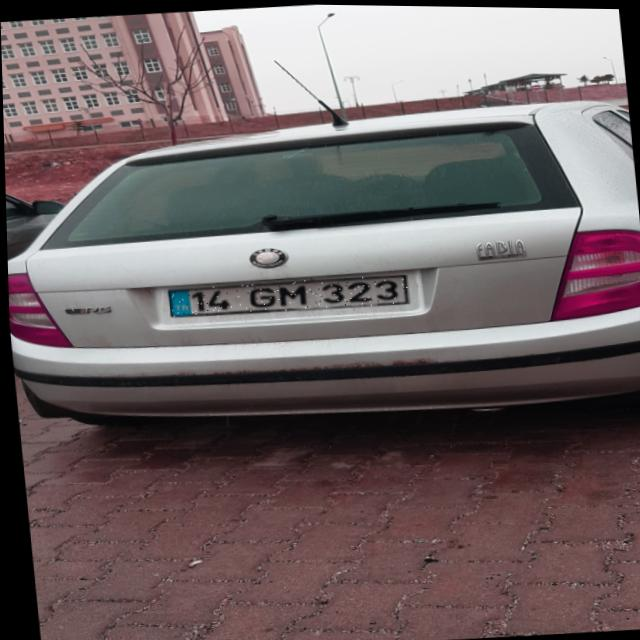license_plate: (166, 270, 407, 319)
